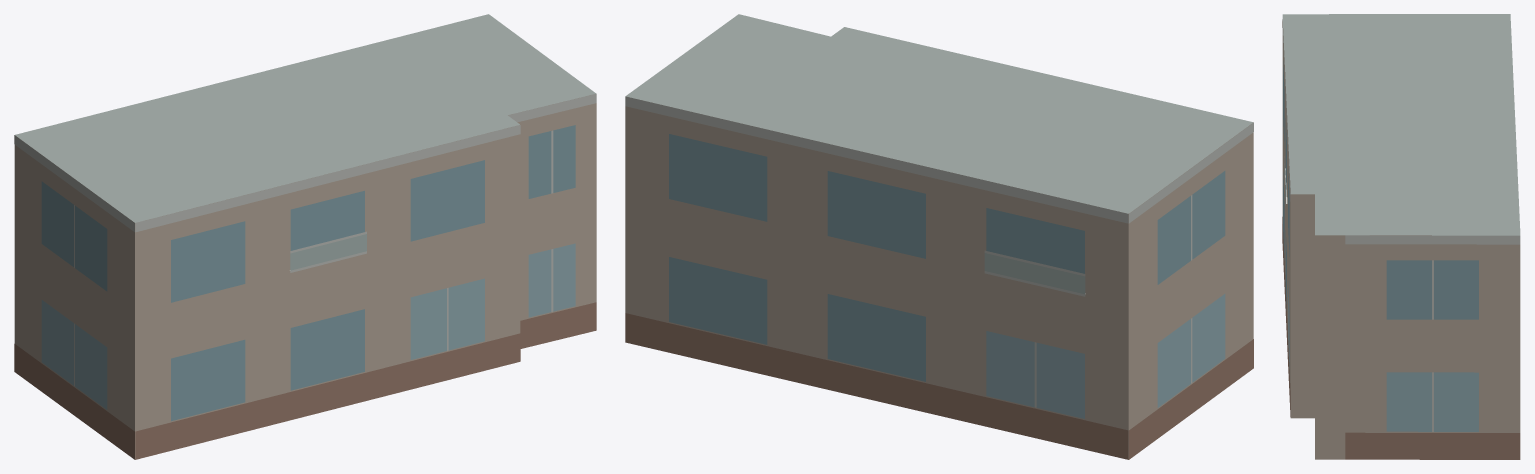
File: survey-upis-32579462.glb
3 views of the same model, side by side, from view 1: azimuth 30°, elevation 25°; view 2: azimuth 150°, elevation 25°; view 3: azimuth 270°, elevation 25° (orthographic). The views are drawn at different scales.
Visible parts, largest first — view 1: survey-upis-32579462.tmp; view 2: survey-upis-32579462.tmp; view 3: survey-upis-32579462.tmp.
Part boxes in pixels (x1,y1,x2,y2): survey-upis-32579462.tmp: (14, 14, 596, 459); survey-upis-32579462.tmp: (625, 14, 1253, 459); survey-upis-32579462.tmp: (1282, 14, 1520, 459).
Size of the model in its own units: 12.94 by 6.1 by 5.88.
